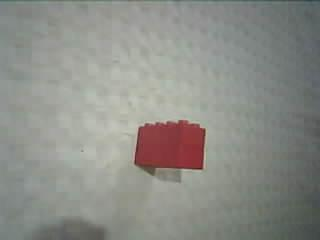lego: (133, 119, 207, 170)
